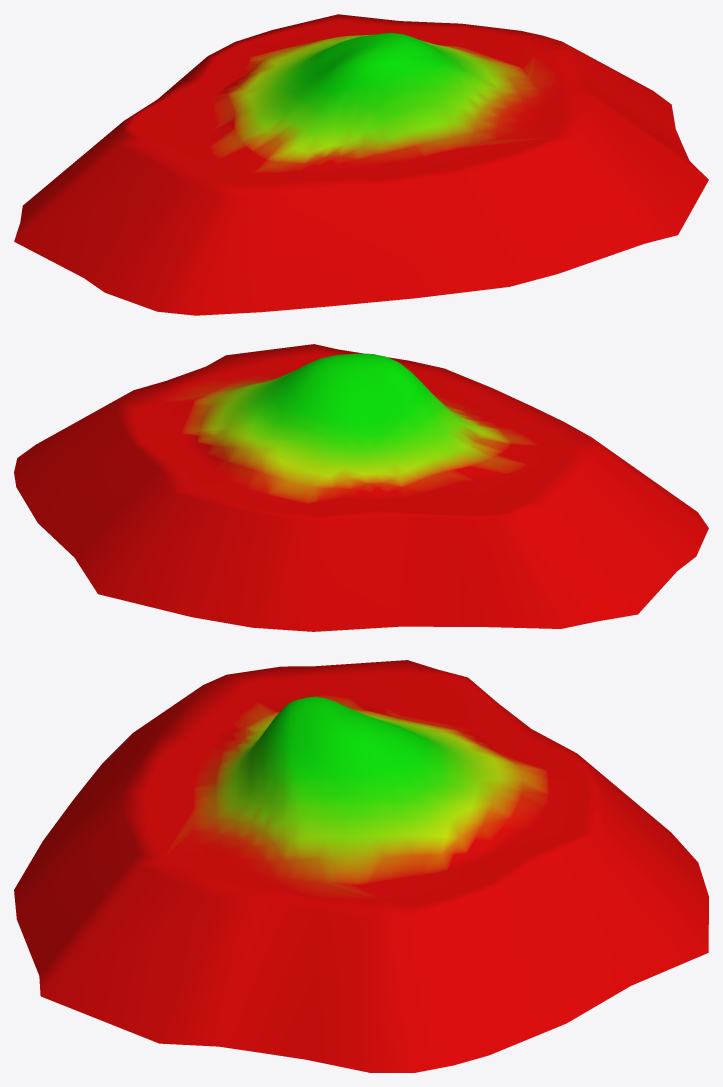
Rendered from island1lvl1.fbx.
3 renders of one model, top to bottom at view 1: azimuth 30°, elevation 25°; view 2: azimuth 150°, elevation 25°; view 3: azimuth 270°, elevation 25°, orthographic. The views are drawn at different scales.
Parts seen in each view (by area): view 1: pPlane2; view 2: pPlane2; view 3: pPlane2.
Boxes of the visible parts, box(x1,y1,x2,y2) form: pPlane2: box(14, 14, 708, 315); pPlane2: box(14, 344, 708, 631); pPlane2: box(14, 660, 708, 1072).
Bounding box in the file's own units: 17.12 × 3.81 × 13.38.
